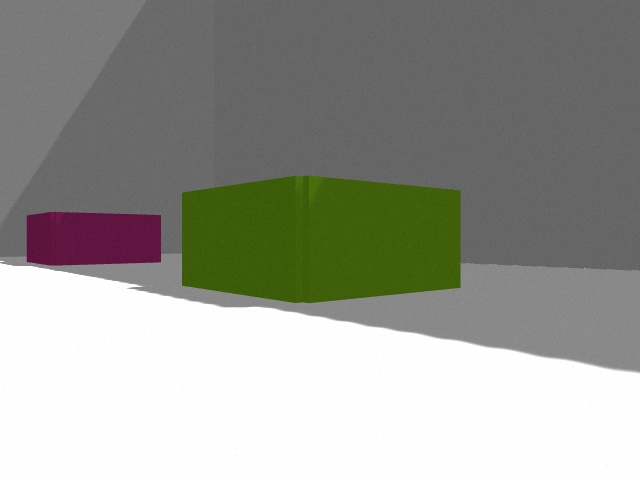green_drop_zone: (182, 176, 461, 303)
red_drop_zone: (27, 212, 161, 266)
